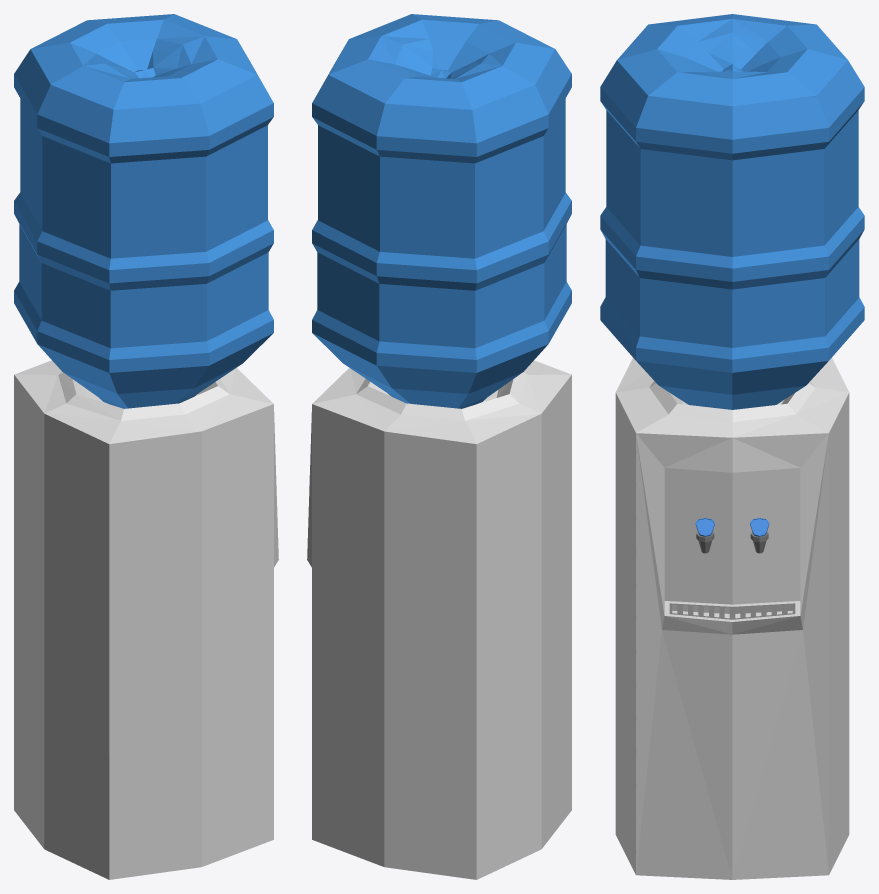
The model's file is Galoon.fbx.
3 renders of one model, left to right at view 1: azimuth 30°, elevation 25°; view 2: azimuth 150°, elevation 25°; view 3: azimuth 270°, elevation 25°, orthographic.
Parts seen in each view (by area): view 1: Base, Galoon; view 2: Base, Galoon; view 3: Base, Galoon.
Boxes of the visible parts, box(x1,y1,x2,y2) form: Base: box(14, 360, 278, 879); Galoon: box(14, 14, 273, 408); Base: box(307, 360, 571, 879); Galoon: box(312, 14, 571, 408); Base: box(615, 358, 849, 879); Galoon: box(600, 14, 864, 409).
Size of the model in its own units: 268 by 898 by 274.
